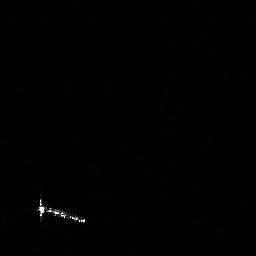ship: (33, 193, 89, 227)
